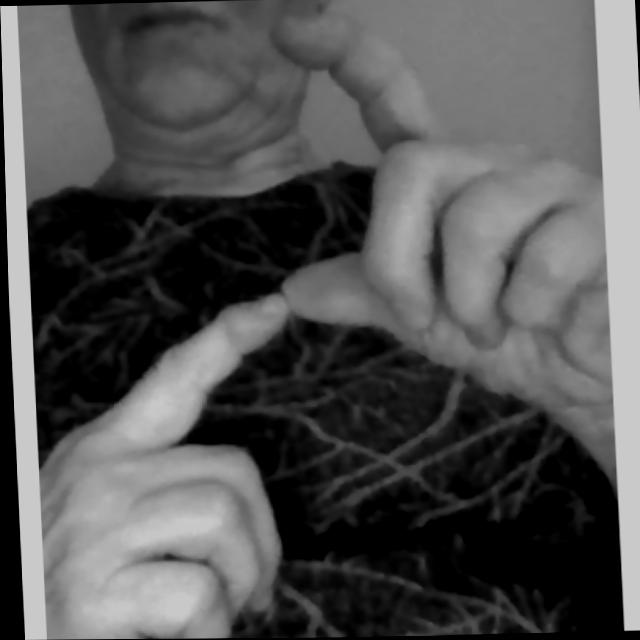S_: (17, 3, 627, 640)
